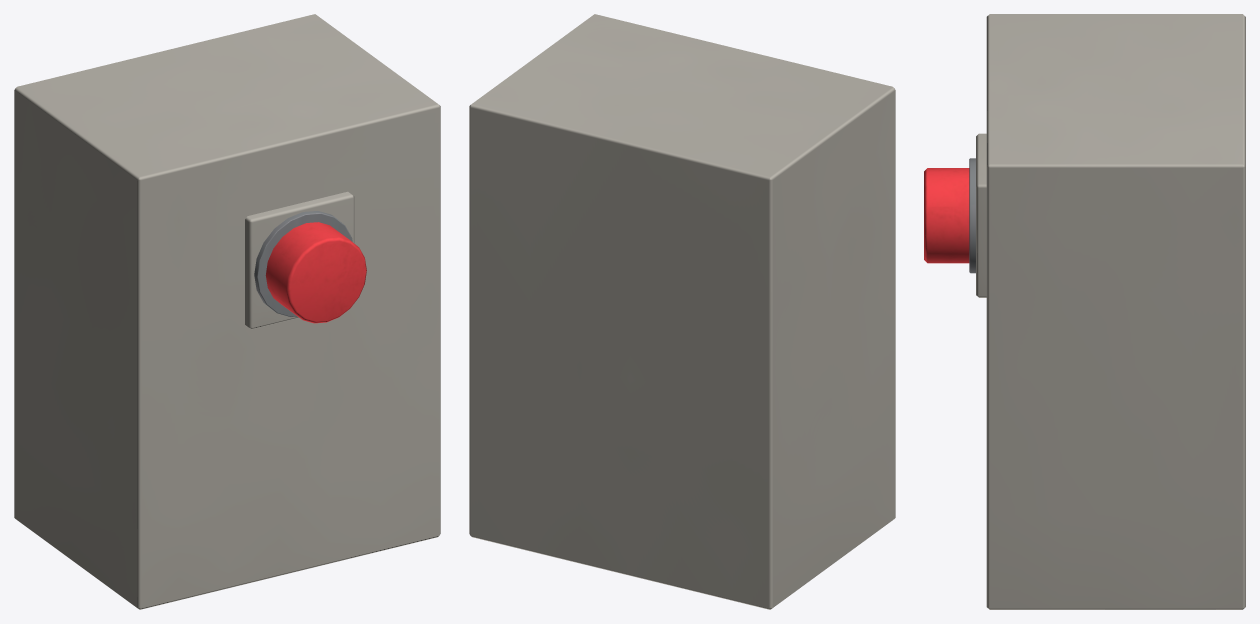
Rendered from boton emergencia (1).fbx.
3 renders of one model, left to right at view 1: azimuth 30°, elevation 25°; view 2: azimuth 150°, elevation 25°; view 3: azimuth 270°, elevation 25°, orthographic. The views are drawn at different scales.
Visible parts, largest first — view 1: base_emergencia, boton_emergencia; view 2: base_emergencia; view 3: base_emergencia, boton_emergencia.
Part boxes in pixels (box(x1,y1,x2,y2)): base_emergencia: box(14, 14, 440, 609); boton_emergencia: box(265, 222, 366, 323); base_emergencia: box(469, 14, 895, 609); base_emergencia: box(969, 14, 1245, 609); boton_emergencia: box(924, 168, 969, 263).
Size of the model in its own units: 0.7334 by 1 by 0.6538.
